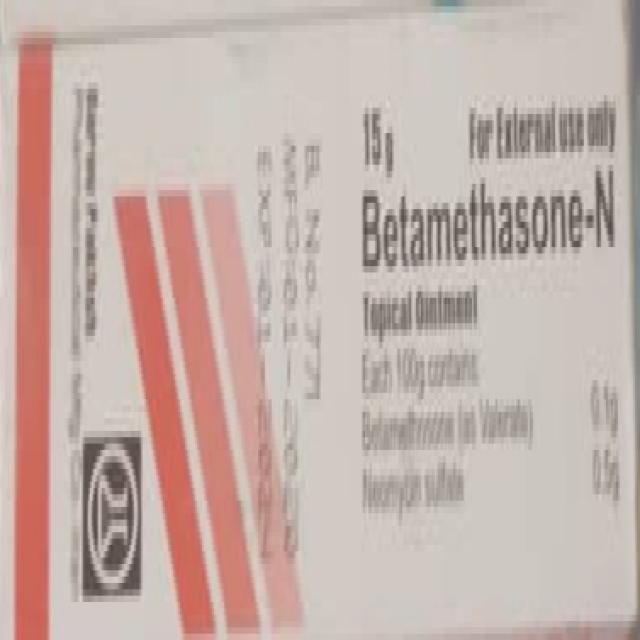drug-name: (361, 167, 618, 268)
